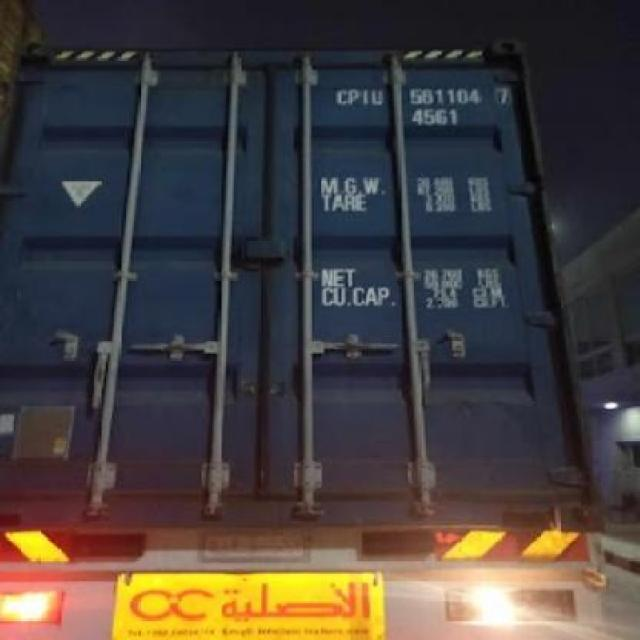ISO: (410, 108, 462, 126)
container_number: (333, 78, 518, 106)
